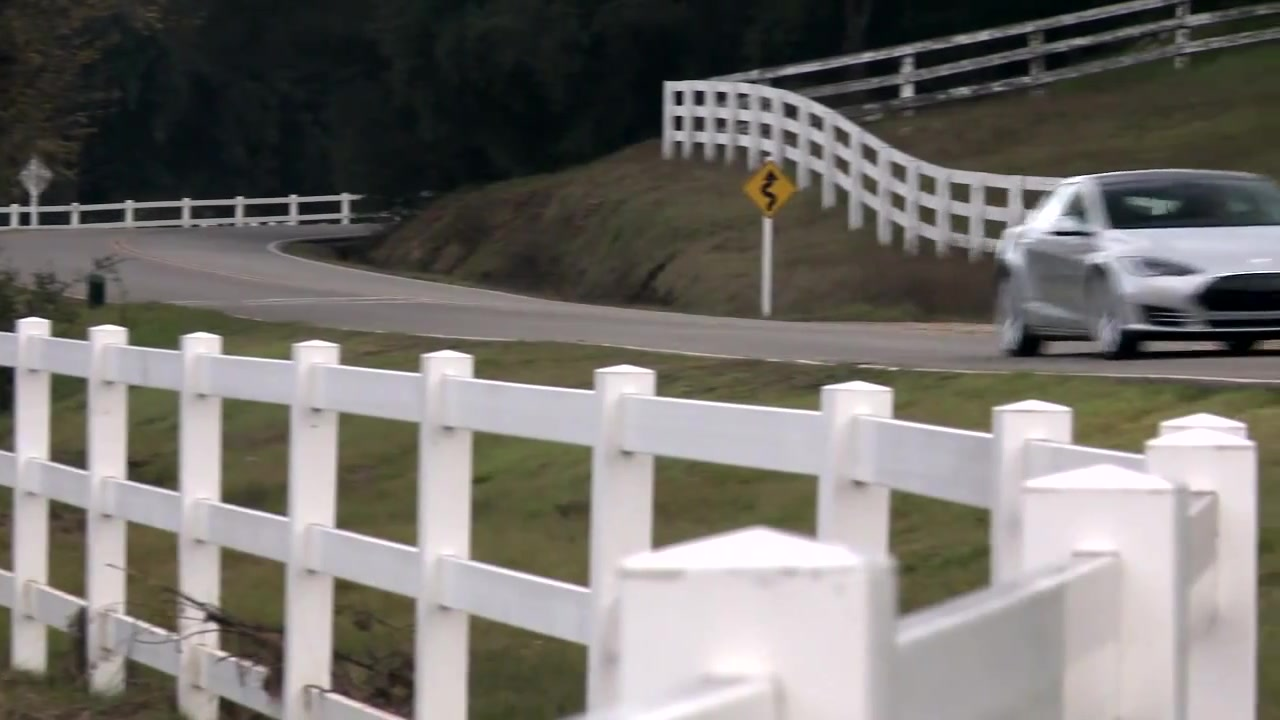car: (984, 163, 1280, 367)
